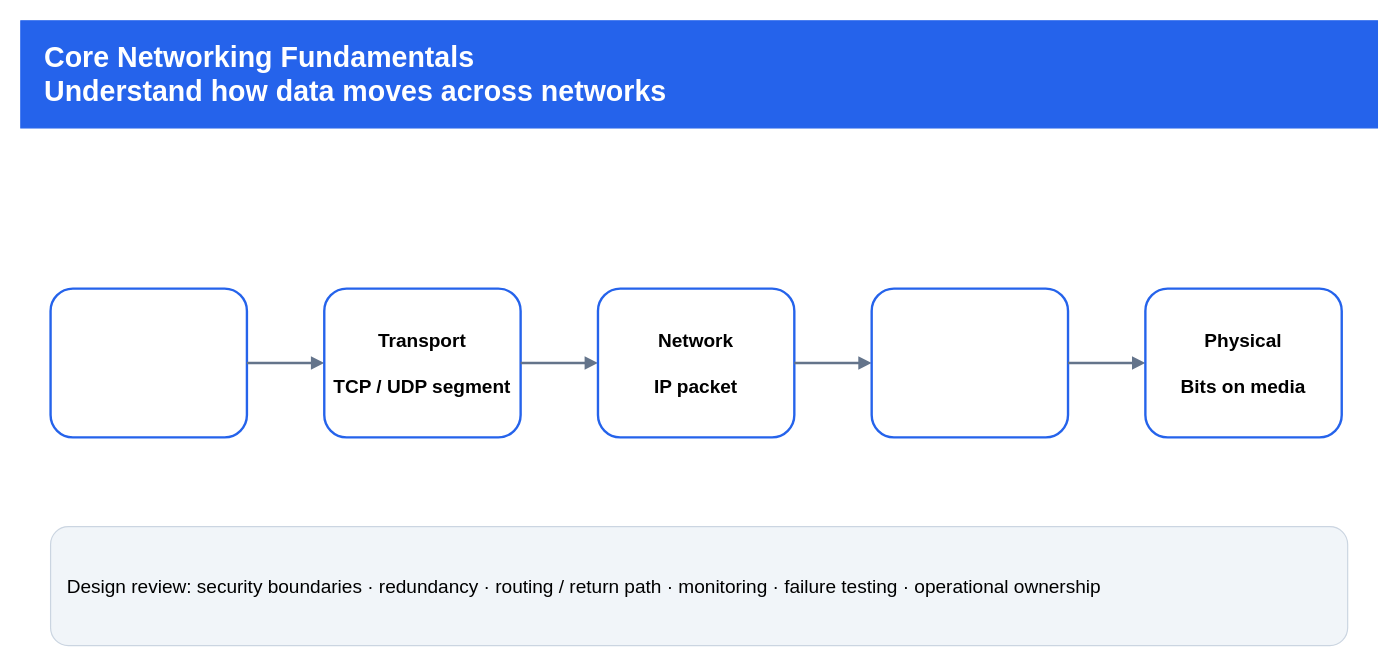
This 1398x666 diagram has some shape labels left out. Each missing label, with the centre of its shape:
"Application Application data" goes at (x=148, y=362).
"Data Link Ethernet frame" goes at (x=969, y=362).
